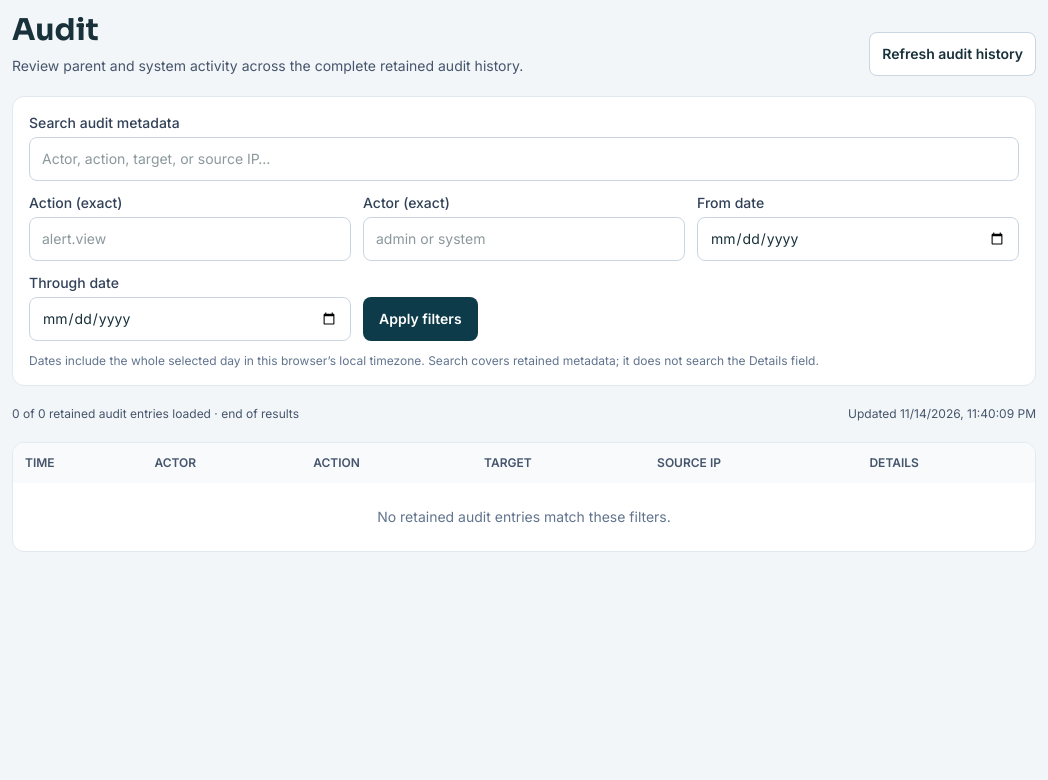
Scenario: complete audit history › uses aware UTC boundaries for the entire through date and blocks a reversed range
Expected: the text "No retained audit entries match these filters." is shown, 13,483 -> 1035,551
Type "2026-11-12" into the date field labelled "From date" at coordinates (858, 239), box 697,217 -> 1019,261
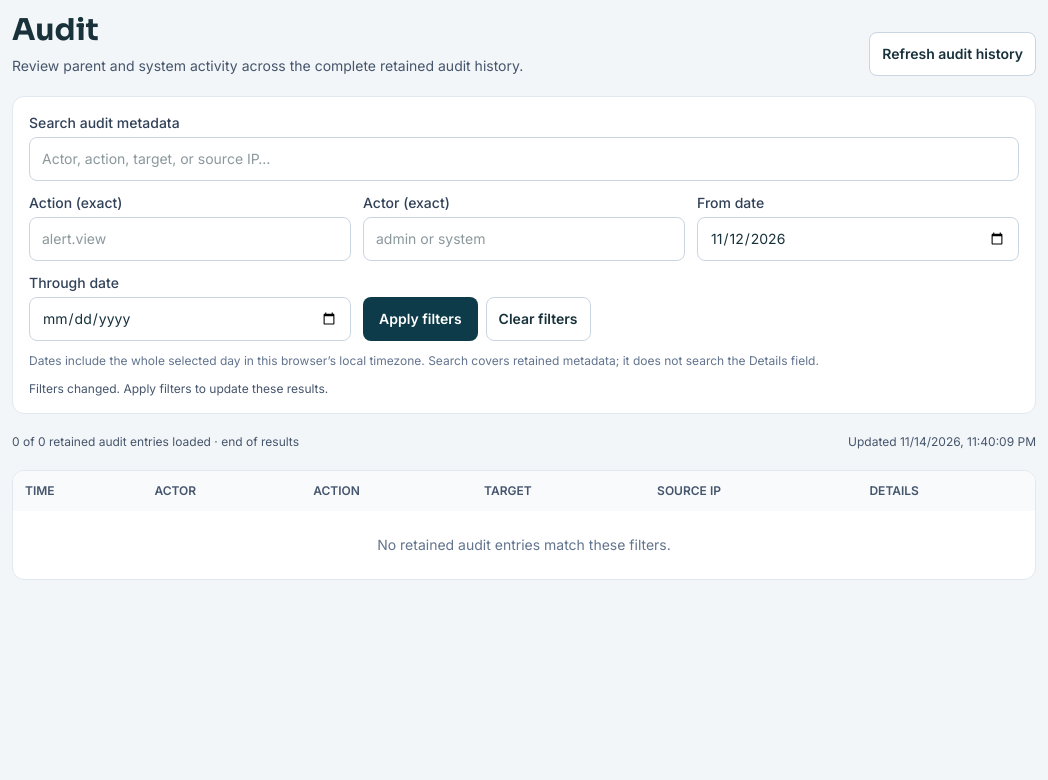
Type "2026-11-12" into the date field labelled "Through date" at coordinates (190, 319), box 29,297 -> 351,341
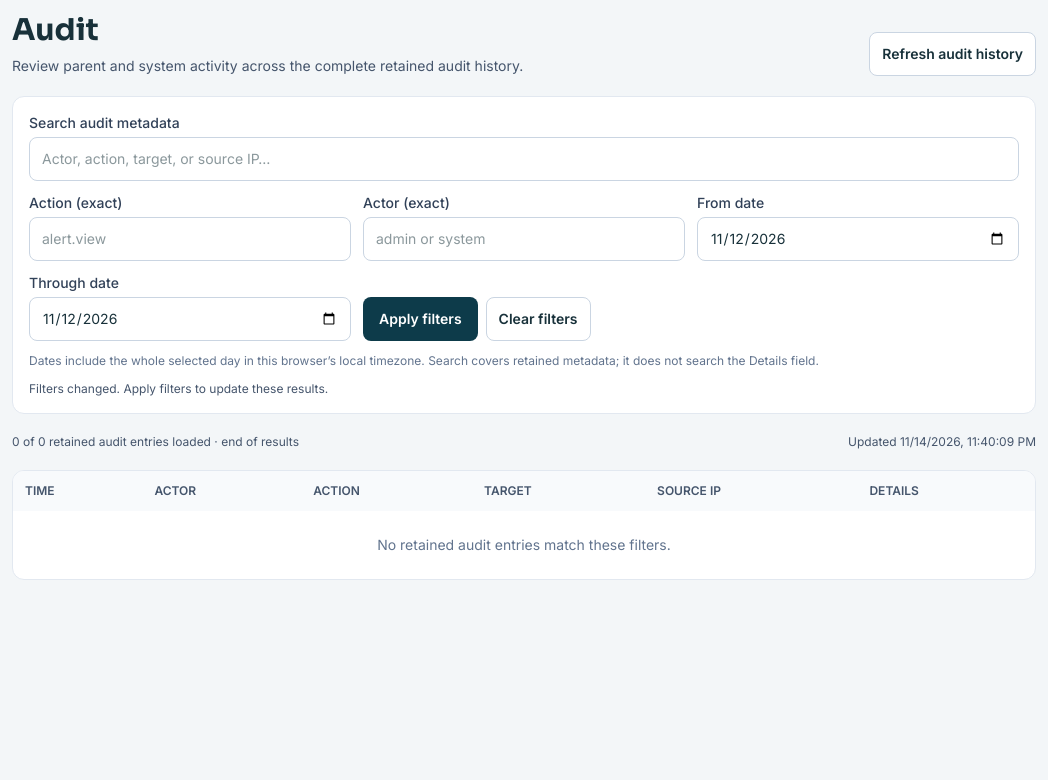
Click the button "Apply filters" at coordinates (420, 319), box 363,297 -> 478,341
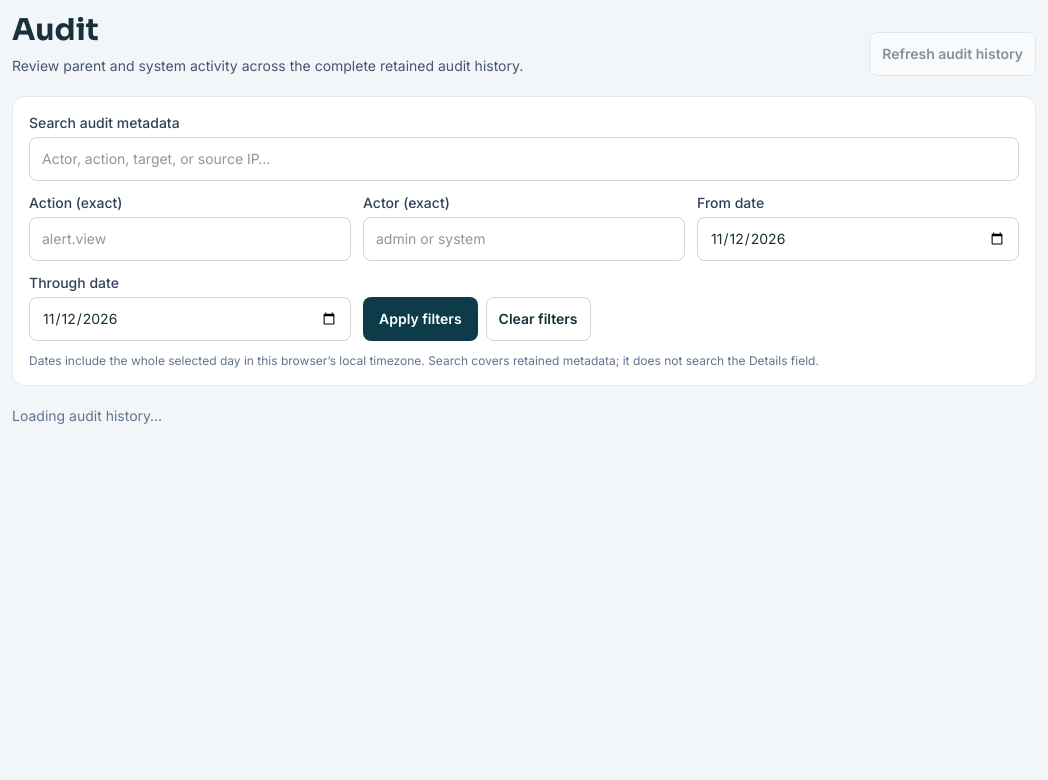
Type "2026-11-11" into the date field labelled "Through date" at coordinates (190, 319), box 29,297 -> 351,341
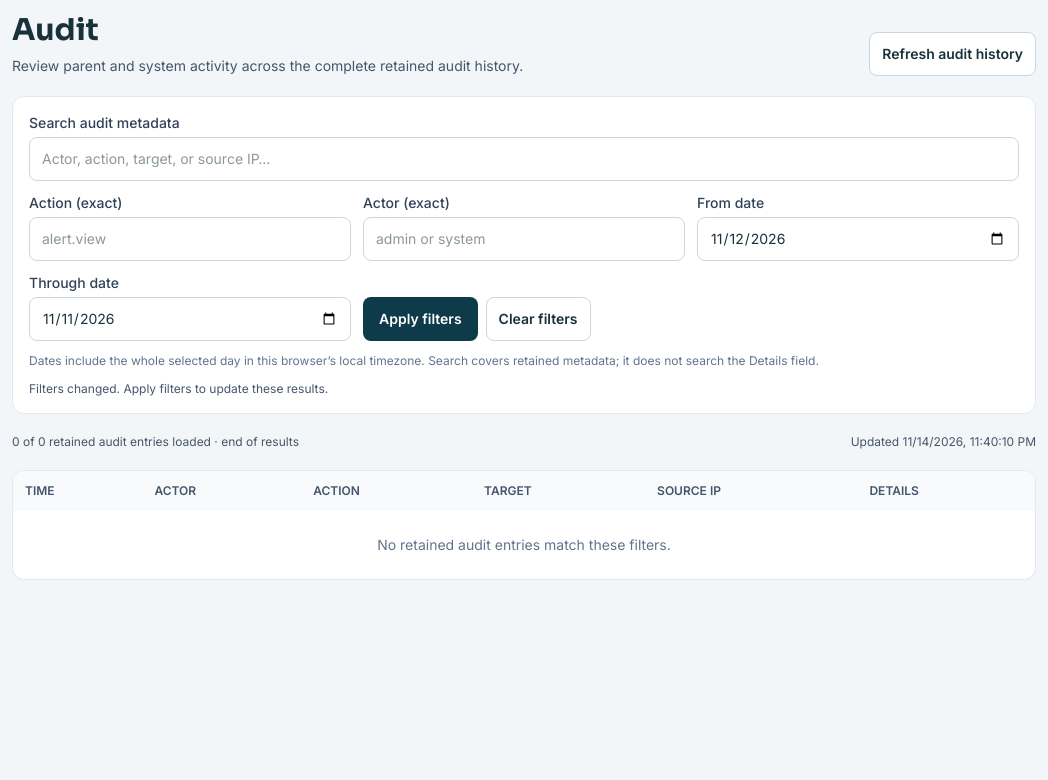
Click the button "Apply filters" at coordinates (420, 319), box 363,297 -> 478,341
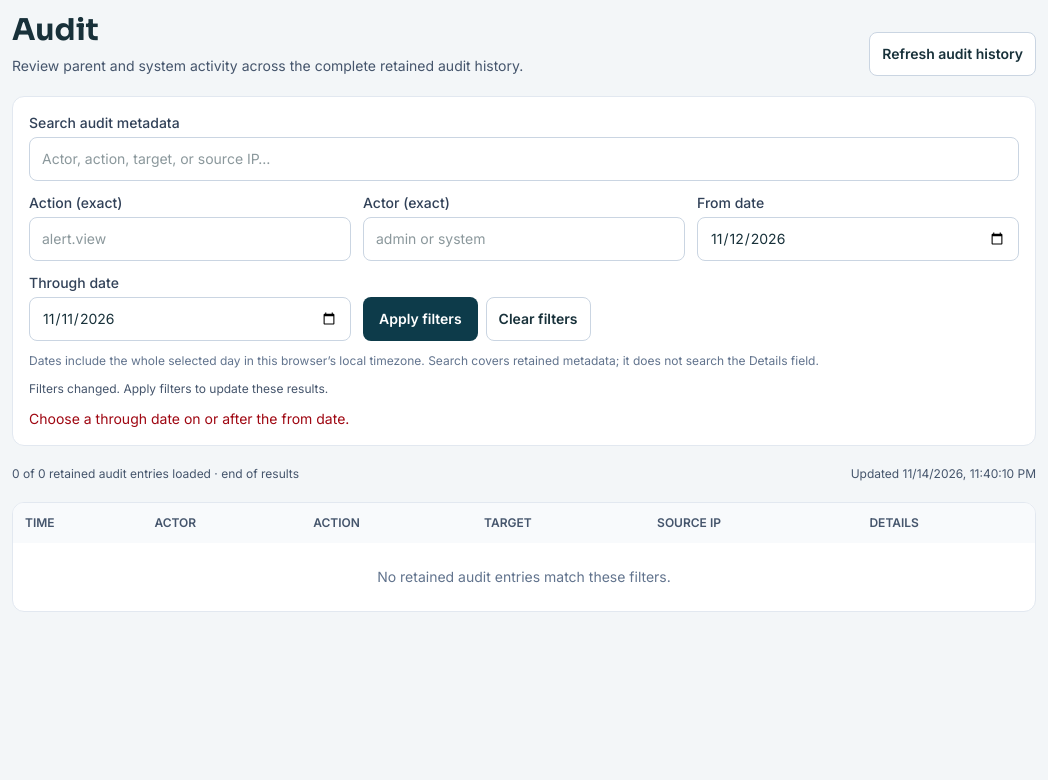
Now the message "Choose a through date on or after the from date." is shown, box 29,410 -> 349,427
